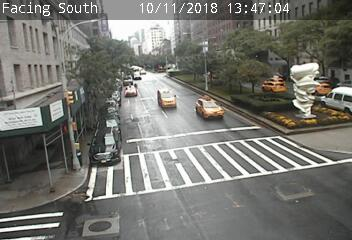car: (89, 128, 120, 163), (319, 86, 352, 112), (196, 97, 223, 118), (300, 82, 329, 96), (157, 89, 177, 108), (262, 81, 286, 94), (124, 85, 137, 96)
